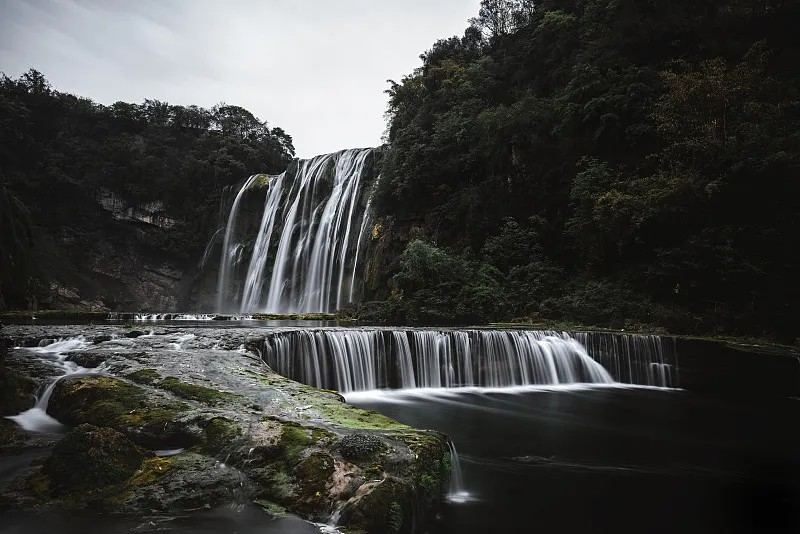Huangguoshu: (214, 149, 380, 311)
